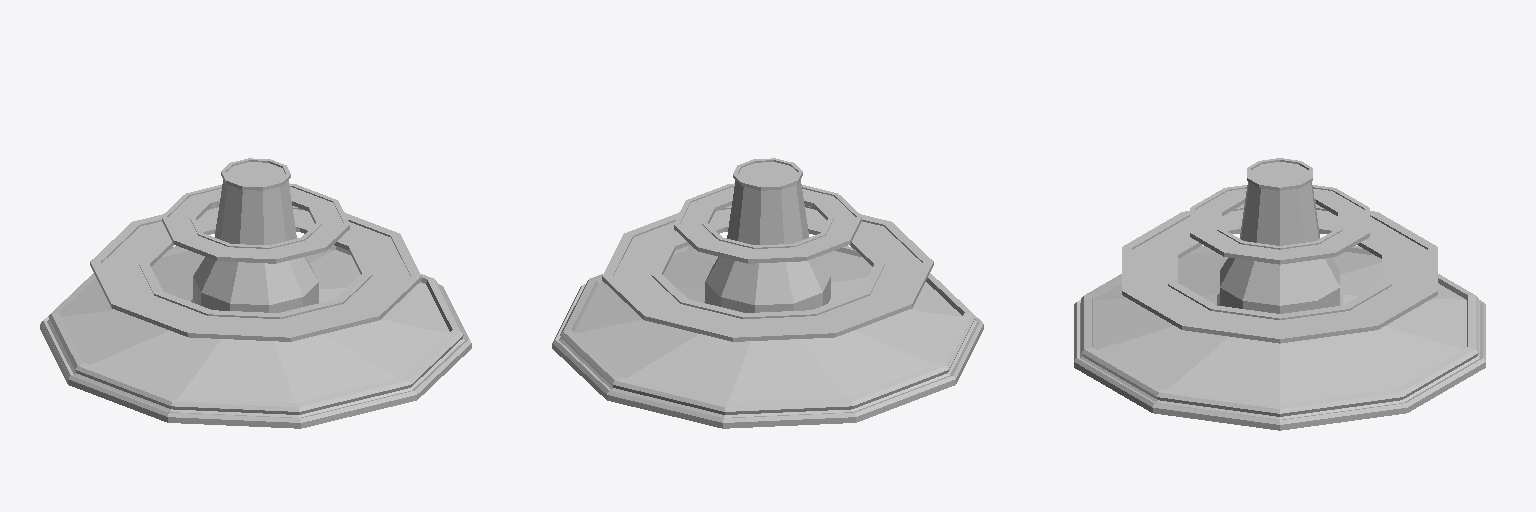
File: mAINtOWER.obj
The picture shows the model from 3 angles: view 1: azimuth 30°, elevation 25°; view 2: azimuth 150°, elevation 25°; view 3: azimuth 270°, elevation 25°; orthographic projection.
Visible parts, largest first — view 1: mASINtOWER; view 2: mASINtOWER; view 3: mASINtOWER.
Part boxes in pixels (left/top/right/bottom): mASINtOWER: left=40, top=158, right=471, bottom=428; mASINtOWER: left=552, top=158, right=983, bottom=428; mASINtOWER: left=1074, top=158, right=1485, bottom=430.
Bounding box in the file's own units: 1021 × 432 × 971.